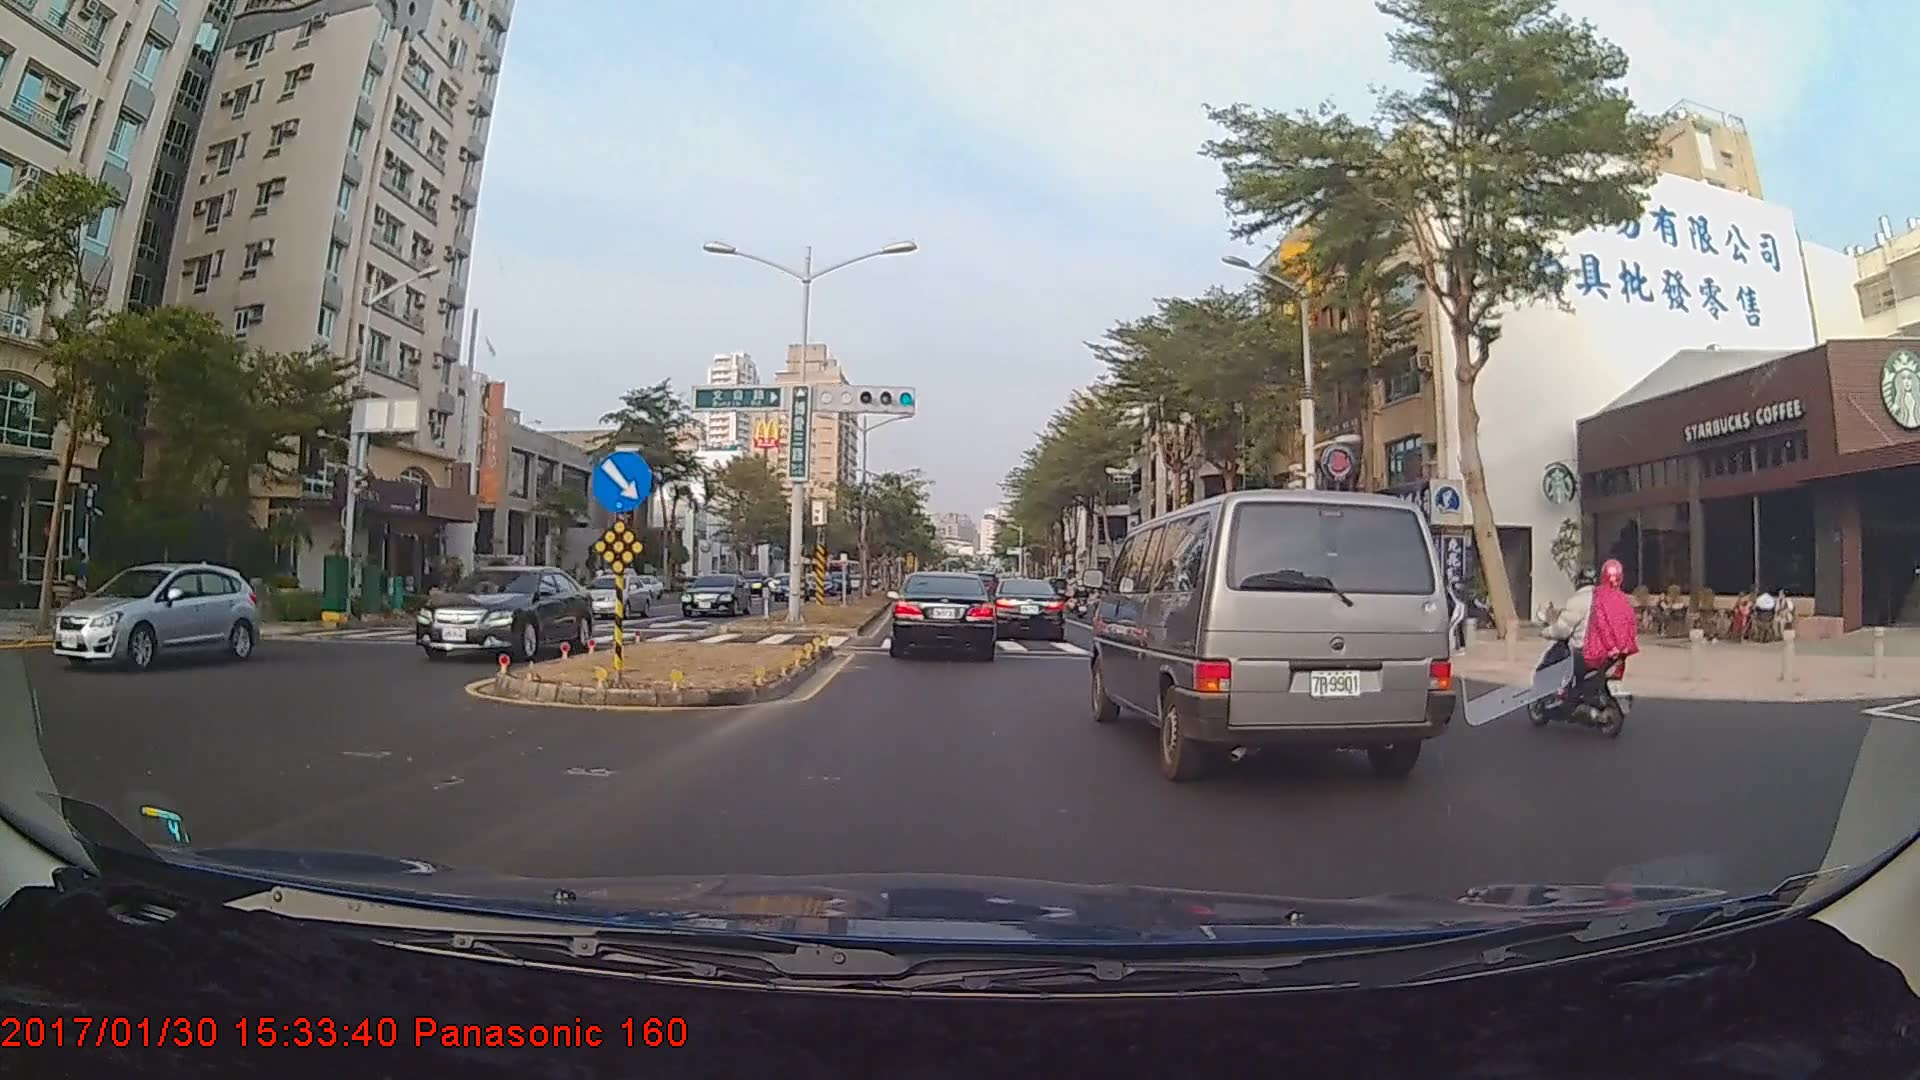rider: (1525, 557, 1653, 744)
vehicle: (1093, 482, 1457, 780), (50, 559, 258, 673), (417, 562, 594, 662), (886, 571, 999, 661), (986, 576, 1068, 641), (579, 574, 652, 622), (677, 571, 748, 619)
